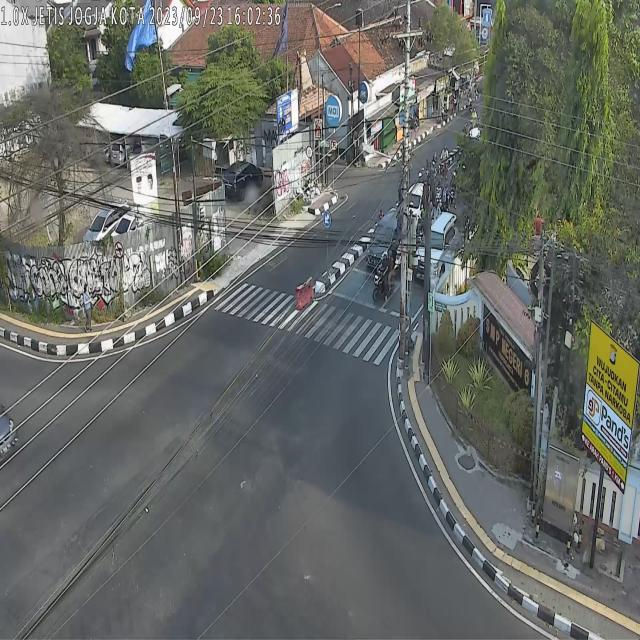car: (412, 211, 460, 282), (366, 209, 400, 269), (408, 182, 430, 224)
motorcycle: (372, 250, 396, 301), (438, 145, 449, 180)
